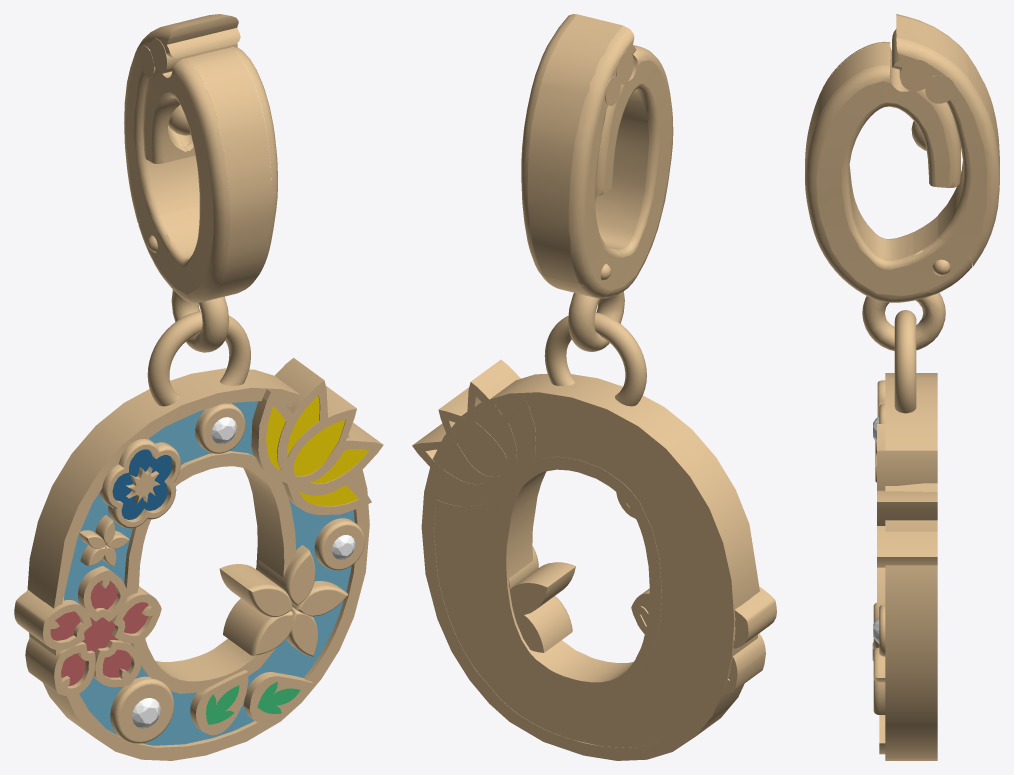
3 renders of one model, left to right at view 1: azimuth 30°, elevation 25°; view 2: azimuth 150°, elevation 25°; view 3: azimuth 270°, elevation 25°, orthographic.
Visible parts, largest first — view 1: Gold_02, Clasp_11, customizable_Mesh_01, Clasp_07, Gold_17, Gold_05, Clasp_09, Gold_01, customizable_Mesh_10, Gold_20, Gold_04, Gold_11 (+27 smaller); view 2: Gold_16, Gold_02, Clasp_09, Gold_17, Clasp_11, Gold_05, Gold_01, Clasp_02, Gold_06, Gold_11, Gold_30, Clasp_12 (+2 smaller); view 3: Clasp_12, Gold_02, Clasp_09, Gold_05, Clasp_05, Clasp_02, Gold_01, Clasp_07, Clasp_11, Clasp_06, Clasp_01, Gold_12 (+2 smaller).
Part boxes in pixels (<box>): Gold_02: <box>27,368,369,760</box>; Clasp_11: <box>143,52,230,302</box>; customizable_Mesh_01: <box>64,401,354,745</box>; Clasp_07: <box>185,47,271,301</box>; Gold_17: <box>124,451,296,693</box>; Gold_05: <box>251,357,383,515</box>; Clasp_09: <box>124,14,240,223</box>; Gold_01: <box>147,311,250,406</box>; customizable_Mesh_10: <box>50,580,148,686</box>; Gold_20: <box>110,676,174,743</box>; Gold_04: <box>99,439,180,528</box>; Gold_11: <box>223,598,293,655</box>; Gold_16: <box>434,405,721,747</box>; Gold_02: <box>421,373,759,760</box>; Clasp_09: <box>521,14,636,284</box>; Gold_17: <box>494,456,661,695</box>; Clasp_11: <box>595,46,673,298</box>; Gold_05: <box>412,359,535,514</box>; Gold_01: <box>544,312,646,406</box>; Clasp_02: <box>568,291,624,351</box>; Gold_06: <box>509,562,575,614</box>; Gold_11: <box>513,596,572,652</box>; Gold_30: <box>733,587,776,648</box>; Clasp_12: <box>595,117,623,241</box>; Clasp_12: <box>805,54,960,302</box>; Gold_02: <box>885,373,937,760</box>; Clasp_09: <box>892,14,999,266</box>; Gold_05: <box>877,424,937,605</box>; Clasp_05: <box>911,226,972,293</box>; Clasp_02: <box>862,292,945,350</box>; Gold_01: <box>894,310,916,413</box>; Clasp_07: <box>805,43,888,176</box>; Clasp_11: <box>823,41,913,249</box>; Clasp_06: <box>899,59,932,91</box>; Clasp_01: <box>925,75,955,103</box>; Gold_12: <box>873,679,885,714</box>.
Bounding box in the file's own units: 0.0111 × 0.0227 × 0.0056.
